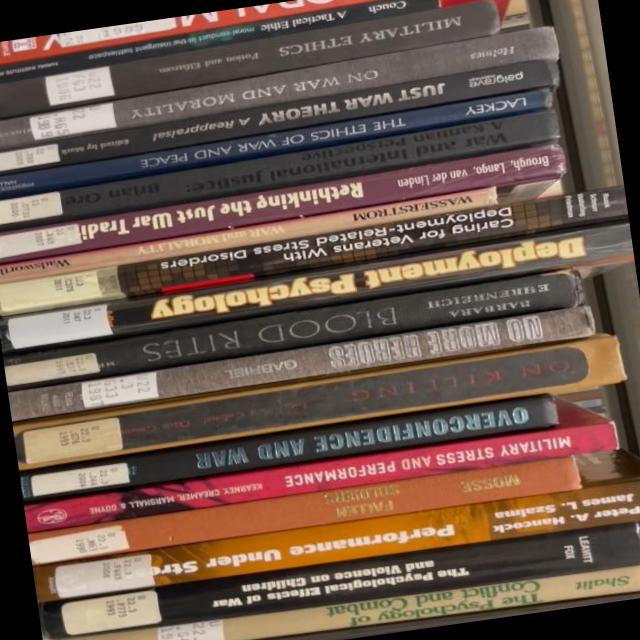book: (0, 182, 630, 321), (11, 332, 625, 471), (0, 224, 635, 354), (33, 477, 640, 601), (2, 269, 583, 392), (38, 522, 640, 640), (0, 25, 559, 151), (0, 142, 567, 264), (0, 110, 560, 232), (7, 306, 594, 422), (23, 419, 616, 533), (0, 57, 559, 176), (0, 85, 551, 200), (0, 0, 500, 120), (27, 457, 579, 565), (18, 393, 557, 502), (0, 184, 497, 286), (63, 560, 640, 640), (0, 0, 440, 84), (0, 0, 392, 65), (258, 586, 640, 640)
